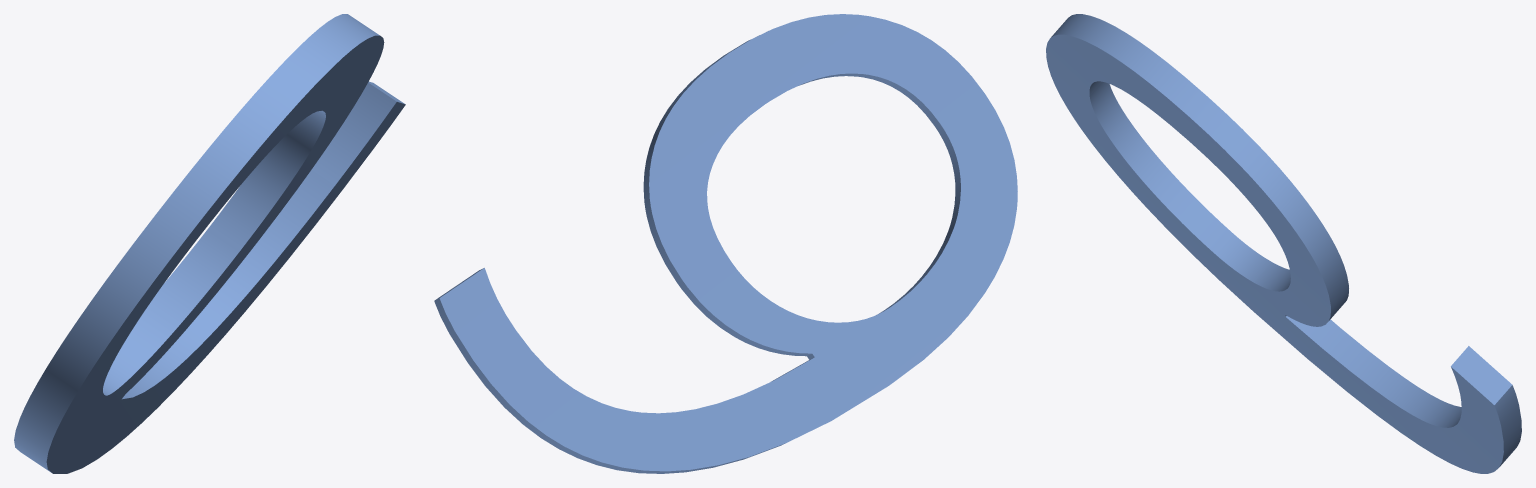
The model's file is New_Number_9.gltf.
3 renders of one model, left to right at view 1: azimuth 30°, elevation 25°; view 2: azimuth 150°, elevation 25°; view 3: azimuth 270°, elevation 25°, orthographic. The views are drawn at different scales.
Parts seen in each view (by area): view 1: Part 360; view 2: Part 360; view 3: Part 360.
Part boxes in pixels (x1,y1,x2,y2): Part 360: (14, 14, 405, 473); Part 360: (434, 14, 1017, 473); Part 360: (1046, 14, 1521, 473).
Size of the model in its own units: 0.00467 by 0.00397 by 0.00419.
